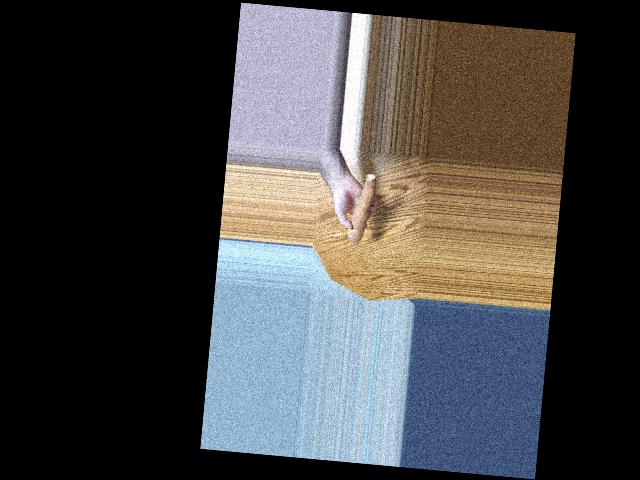sweet_potato: (349, 175, 376, 249)
